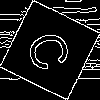C: (25, 25, 81, 75)
